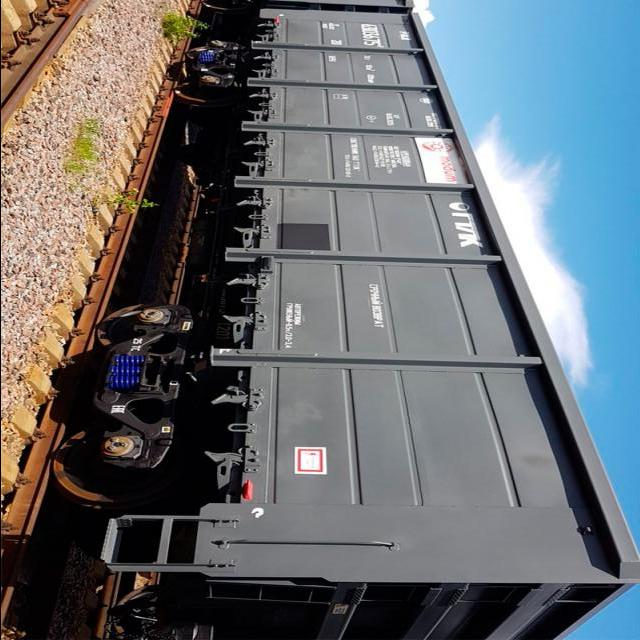wagon: (358, 22, 382, 50)
